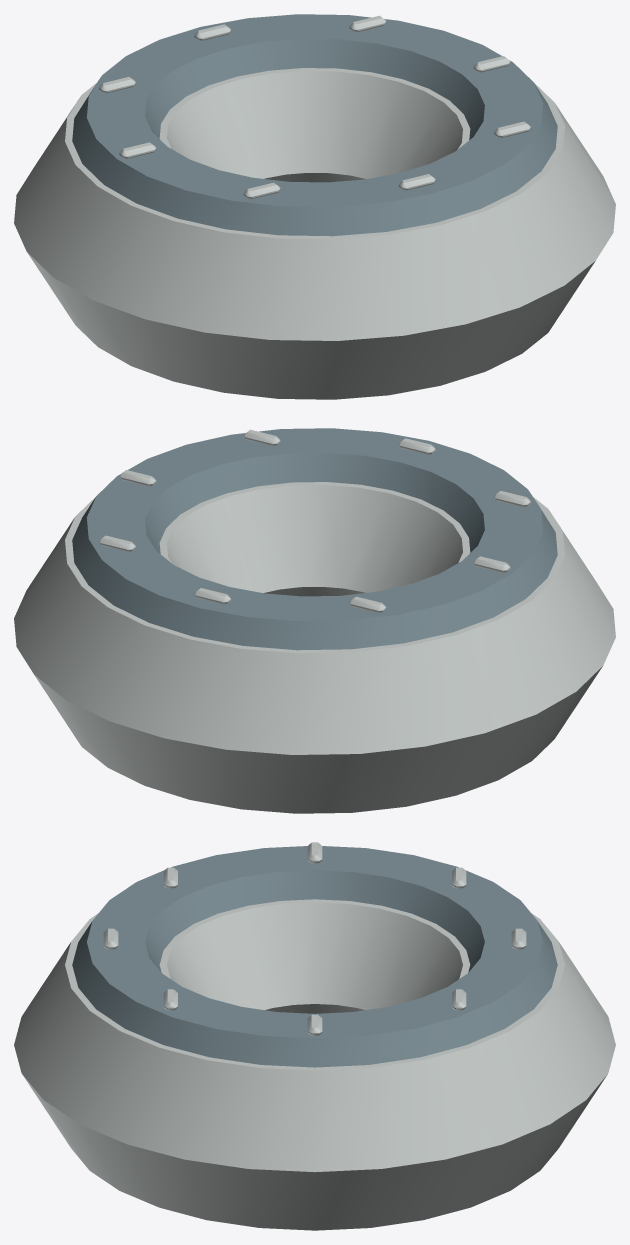
The model's file is donut.glb.
The picture shows the model from 3 angles, top to bottom: view 1: azimuth 30°, elevation 25°; view 2: azimuth 150°, elevation 25°; view 3: azimuth 270°, elevation 25°; orthographic projection.
Visible parts, largest first — view 1: baked_ring, icing_ring; view 2: baked_ring, icing_ring; view 3: baked_ring, icing_ring.
Boxes of the visible parts, x1=… form: baked_ring: x1=14, y1=68, x2=615, y2=399; icing_ring: x1=72, y1=14, x2=557, y2=236; baked_ring: x1=14, y1=482, x2=615, y2=813; icing_ring: x1=72, y1=428, x2=557, y2=650; baked_ring: x1=14, y1=899, x2=615, y2=1230; icing_ring: x1=72, y1=846, x2=557, y2=1067.
Bounding box in the file's own units: 0.124 × 0.0432 × 0.124.
